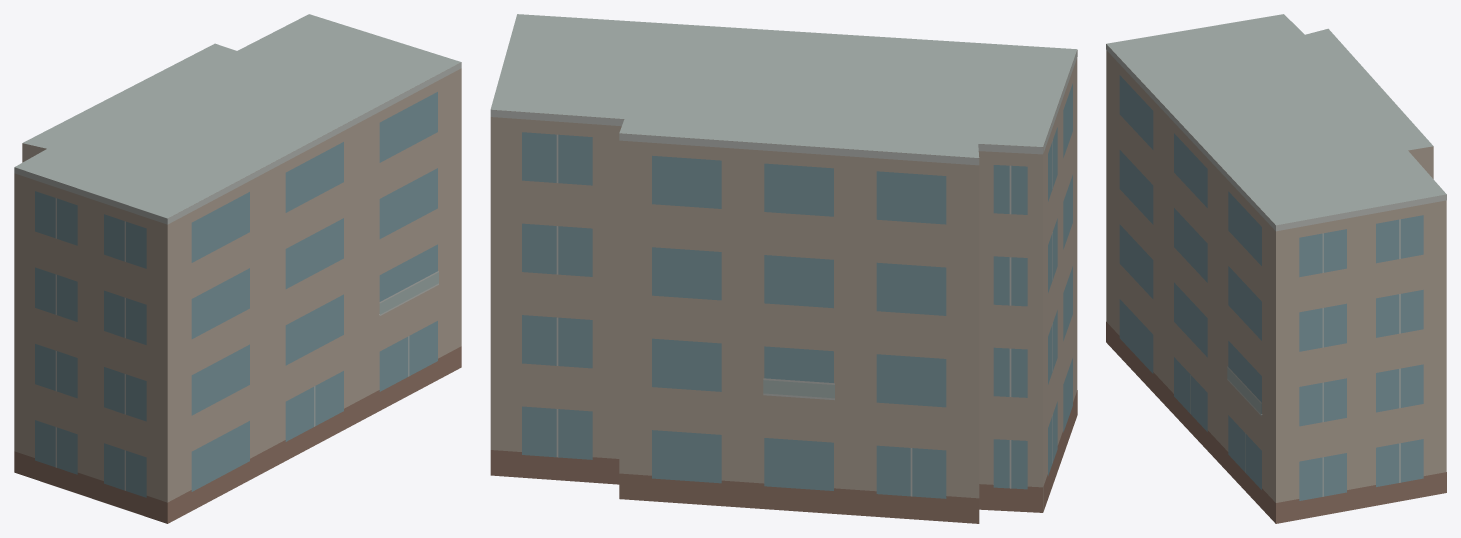
File: survey-upis-32666356.glb
3 views of the same model, side by side, from view 1: azimuth 30°, elevation 25°; view 2: azimuth 150°, elevation 25°; view 3: azimuth 270°, elevation 25° (orthographic). The views are drawn at different scales.
Parts seen in each view (by area): view 1: survey-upis-32666356.tmp; view 2: survey-upis-32666356.tmp; view 3: survey-upis-32666356.tmp.
Part boxes in pixels (x1,y1,x2,y2): survey-upis-32666356.tmp: (14, 14, 461, 523); survey-upis-32666356.tmp: (490, 14, 1077, 523); survey-upis-32666356.tmp: (1106, 14, 1446, 523).
Size of the model in its own units: 18.54 by 12.2 by 12.63.
